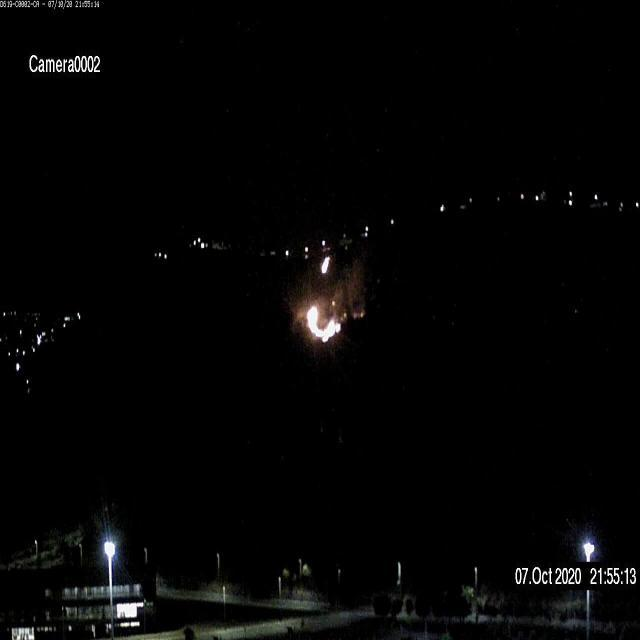Fire: (288, 240, 368, 340), (306, 301, 341, 344), (319, 256, 331, 276)
